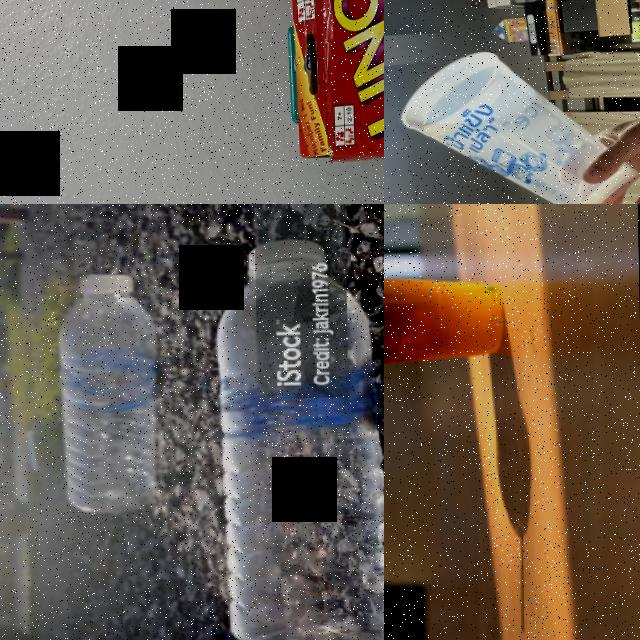bottle: (214, 236, 384, 640), (56, 265, 166, 509)
cup: (398, 45, 640, 204), (384, 260, 510, 377)
